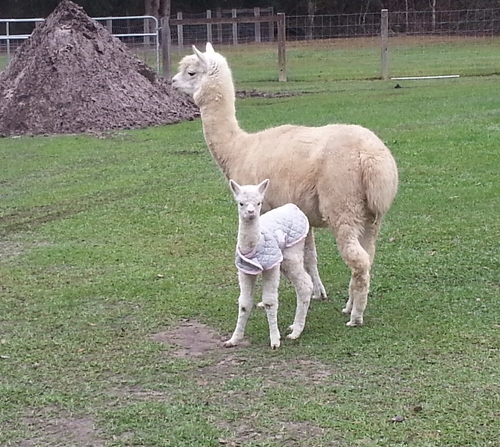alpaca: (171, 42, 398, 328), (223, 178, 313, 351)
